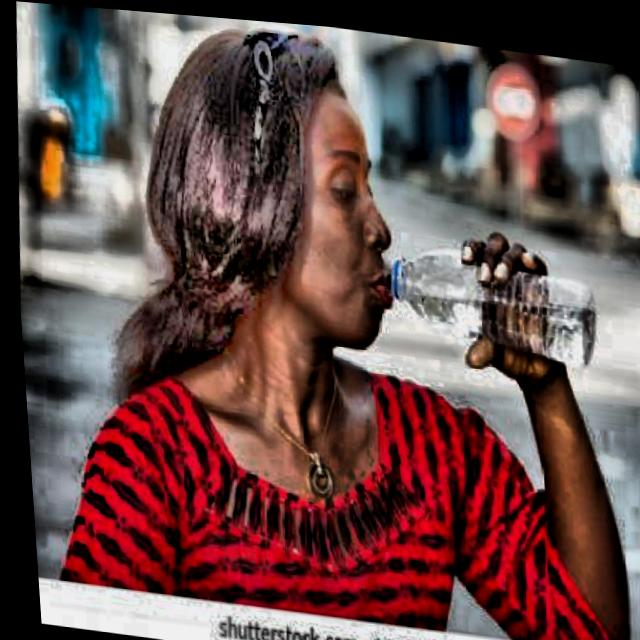Bottles: (334, 207, 640, 400)
